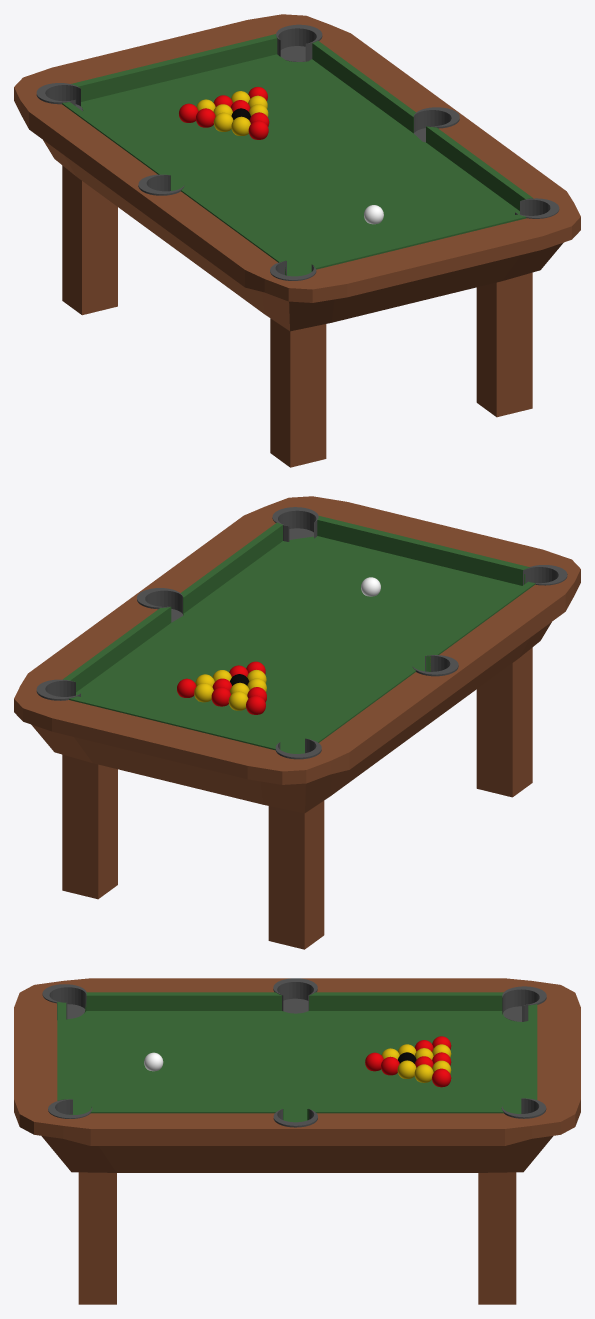
The model's file is Pool Table.fbx.
3 renders of one model, top to bottom at view 1: azimuth 30°, elevation 25°; view 2: azimuth 150°, elevation 25°; view 3: azimuth 270°, elevation 25°, orthographic. The views are drawn at different scales.
Visible parts, largest first — view 1: PoolTable, PoolGreen, Pool holes, Balls; view 2: PoolTable, PoolGreen, Pool holes, Balls; view 3: PoolTable, PoolGreen, Pool holes, Balls.
Part boxes in pixels (x1,y1,x2,y2): PoolTable: (14, 14, 580, 467); PoolGreen: (62, 34, 533, 276); Pool holes: (36, 24, 559, 280); Balls: (179, 87, 383, 224); PoolTable: (14, 496, 580, 949); PoolGreen: (63, 516, 535, 753); Pool holes: (36, 507, 567, 759); Balls: (177, 577, 380, 714); PoolTable: (14, 978, 580, 1304); PoolGreen: (57, 992, 537, 1122); Pool holes: (42, 978, 546, 1127); Balls: (144, 1036, 451, 1087).
Size of the model in its own units: 441 by 268 by 702.
